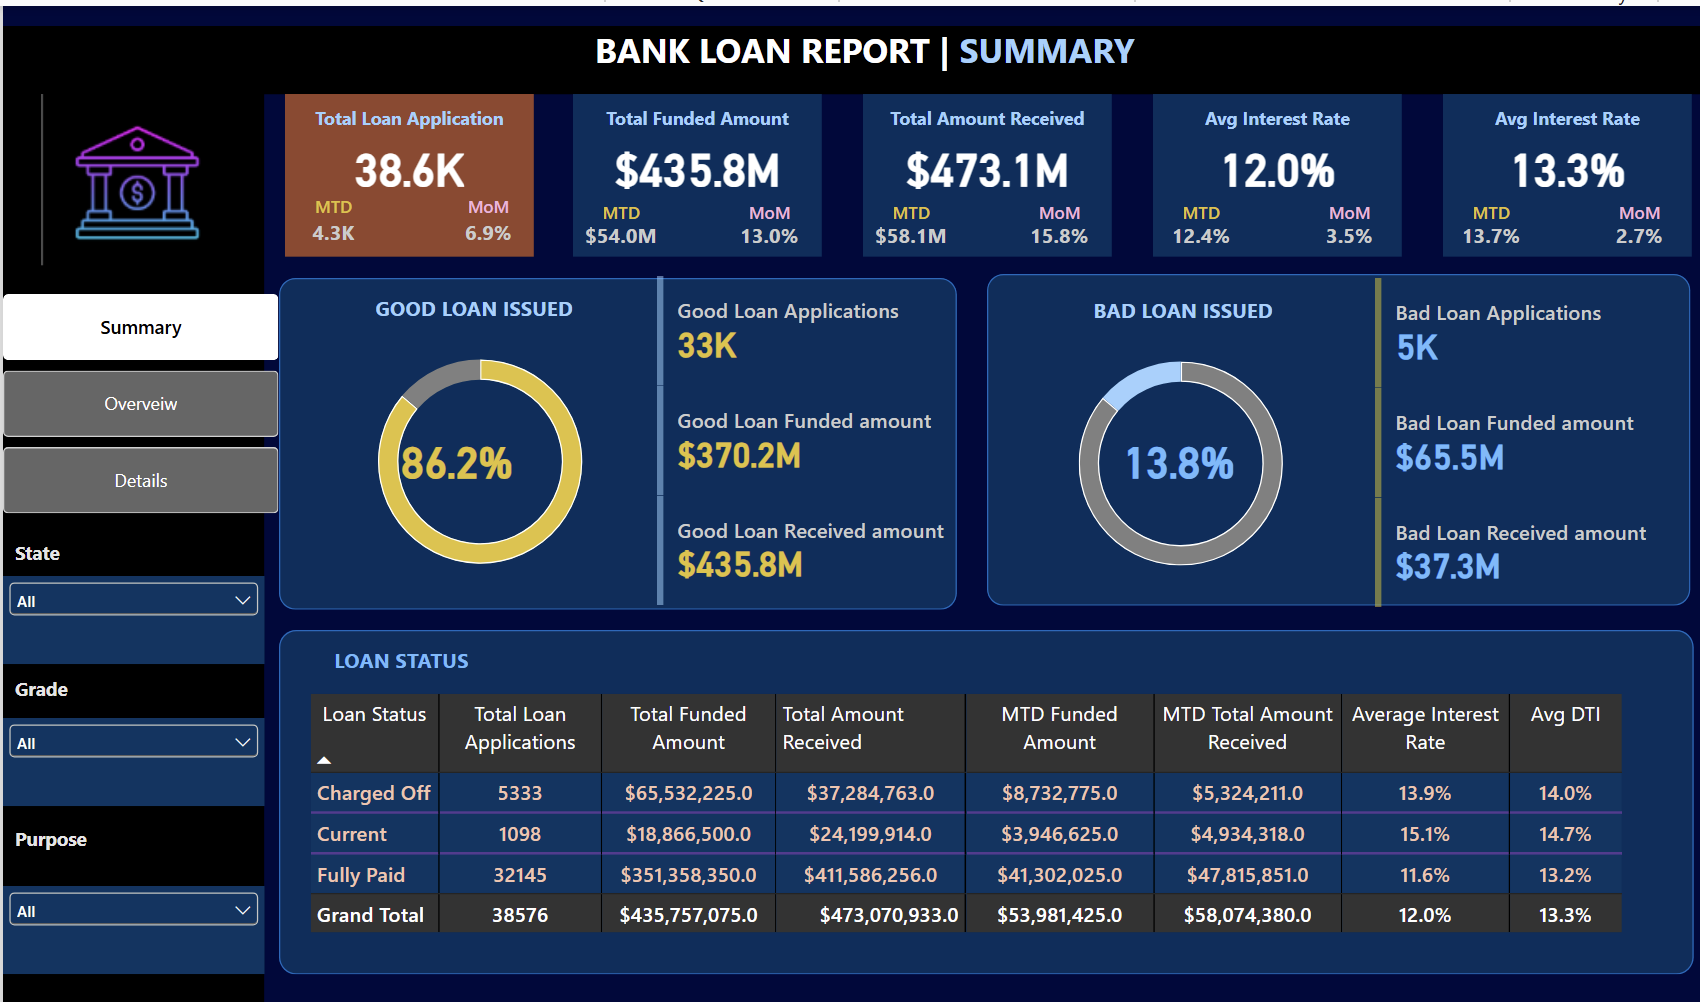

The page's visual inventory and layout, read from the dashboard file:
{"tool":"powerbi","page":{"name":"Summary","canvas":[1920,1080],"ordinal":0},"visuals":[{"type":"shape","box":[216.2,212.5,531.2,260],"z":0},{"type":"cardVisual","fields":{"Data":["bank_loan_data.Bad Loan Applications","bank_loan_data.Bad Loan Funded amount","bank_loan_data.Bad Loan Received amount"]},"box":[1075,212.5,251.2,260],"z":0,"group":"g7"},{"type":"shape","box":[0,15,1920,53.8],"z":1000},{"type":"donutChart","fields":{"Category":["bank_loan_data.Good v Bad Loan"],"Y":["bank_loan_data.Total Loan Applications"]},"box":[771.2,243.7,303.8,230],"z":1000,"group":"g7"},{"type":"shape","box":[0,43.8,205,1026.2],"z":2000},{"type":"textbox","box":[773.7,226.3,301.2,35],"z":2000,"group":"g7"},{"type":"textbox","box":[463.8,15,475,38.8],"z":3000},{"type":"textbox","box":[221.2,68.8,195,127.5],"z":3000,"group":"g1"},{"type":"textbox","box":[446.6,68.8,195,127.5],"z":3000,"group":"g2"},{"type":"textbox","box":[673.4,68.8,195,127.5],"z":3000,"group":"g3"},{"type":"textbox","box":[900.3,68.8,195,127.5],"z":3000,"group":"g4"},{"type":"textbox","box":[1127.2,68.8,195,127.5],"z":3000,"group":"g5"},{"type":"group","id":"g1","title":"Group 1","box":[221.2,68.8,195,127.5],"z":4000},{"type":"cardVisual","fields":{"Data":["bank_loan_data.Total Loan Applications"]},"box":[221.2,102.6,195,50],"z":4000,"group":"g1"},{"type":"cardVisual","fields":{"Data":["bank_loan_data.Total Funded Amount"]},"box":[446.6,102.6,195,50],"z":4000,"group":"g2"},{"type":"cardVisual","fields":{"Data":["bank_loan_data.Total Amount Received"]},"box":[673.4,102.6,195,50],"z":4000,"group":"g3"},{"type":"cardVisual","fields":{"Data":["bank_loan_data.Average Interest Rate"]},"box":[900.3,102.6,195,50],"z":4000,"group":"g4"},{"type":"cardVisual","fields":{"Data":["bank_loan_data.Avg DTI"]},"box":[1127.2,102.6,195,50],"z":4000,"group":"g5"},{"type":"group","id":"g2","title":"Group 1","box":[439.4,68.8,203.8,127.5],"z":5000},{"type":"textbox","box":[221.2,77.6,195,25],"z":5000,"group":"g1"},{"type":"textbox","box":[446.6,77.6,195,25],"z":5000,"group":"g2"},{"type":"textbox","box":[673.4,77.6,195,25],"z":5000,"group":"g3"},{"type":"textbox","box":[900.3,77.6,195,25],"z":5000,"group":"g4"},{"type":"textbox","box":[1127.2,77.6,195,25],"z":5000,"group":"g5"},{"type":"cardVisual","title":"MoM","fields":{"Data":["bank_loan_data.MOM Loan Application"]},"box":[345,147.6,71.2,40],"z":6000,"group":"g1"},{"type":"cardVisual","title":"MoM","fields":{"Data":["bank_loan_data.MOM Total funded amount"]},"box":[559.9,151.6,82.5,36.2],"z":6000,"group":"g2"},{"type":"cardVisual","title":"MoM","fields":{"Data":["bank_loan_data.MOM Total Amount Received"]},"box":[786.7,151.6,82.5,36.2],"z":6000,"group":"g3"},{"type":"cardVisual","title":"MoM","fields":{"Data":["bank_loan_data.MOM Avg Interest Rate"]},"box":[1013.6,151.6,82.5,36.2],"z":6000,"group":"g4"},{"type":"cardVisual","title":"MoM","fields":{"Data":["bank_loan_data.MOM Total Avg"]},"box":[1240.5,151.6,82.5,36.2],"z":6000,"group":"g5"},{"type":"textbox","box":[216.2,225,306.1,35],"z":6000,"group":"g6"},{"type":"cardVisual","fields":{"Data":["bank_loan_data.Good Loan %"]},"box":[292.5,333.8,125,47.5],"z":6000},{"type":"group","id":"g3","title":"Group 1","box":[666.2,68.8,203.8,127.5],"z":7000},{"type":"cardVisual","title":"MTD","fields":{"Data":["bank_loan_data.MTD Loan Applications"]},"box":[221.2,147.6,76.2,40],"z":7000,"group":"g1"},{"type":"cardVisual","title":"MTD","fields":{"Data":["bank_loan_data.MTD Funded Amount"]},"box":[439.4,151.6,91.2,36.2],"z":7000,"group":"g2"},{"type":"cardVisual","title":"MTD","fields":{"Data":["bank_loan_data.MTD Total Amount Received"]},"box":[666.2,151.6,91.2,36.2],"z":7000,"group":"g3"},{"type":"cardVisual","title":"MTD","fields":{"Data":["bank_loan_data.MTD Avg Int Rate"]},"box":[893.1,151.6,91.2,36.2],"z":7000,"group":"g4"},{"type":"cardVisual","title":"MTD","fields":{"Data":["bank_loan_data.MTD Avg DTI"]},"box":[1120,151.6,91.2,36.2],"z":7000,"group":"g5"},{"type":"group","id":"g4","title":"Group 1","box":[893.1,68.8,203.8,127.5],"z":8000},{"type":"group","id":"g5","title":"Group 1","box":[1120,68.8,203.8,127.5],"z":9000},{"type":"shape","box":[771.2,210,551.2,260],"z":10000},{"type":"donutChart","fields":{"Category":["bank_loan_data.Good v Bad Loan"],"Y":["bank_loan_data.Total Loan Applications"]},"box":[235.9,242.5,274.5,230.1],"z":10000,"group":"g6"},{"type":"cardVisual","fields":{"Data":["bank_loan_data.Bad Loan %"]},"box":[858.8,333.8,125,47.5],"z":11000},{"type":"shape","box":[216.2,488.8,1108.8,270],"z":12000},{"type":"group","id":"g6","title":"Group 2","box":[216.2,211.2,1110,580],"z":13000},{"type":"cardVisual","fields":{"Data":["bank_loan_data.Good Loan Applications","bank_loan_data.Good Loan Funded amount","bank_loan_data.Good Loan Received amount"]},"box":[511.7,211.2,264,260.1],"z":13000,"group":"g6"},{"type":"group","id":"g7","title":"Group 3","box":[771.2,212.5,555,261.2],"z":14000},{"type":"tableEx","fields":{"Values":["bank_loan_data.loan_status","bank_loan_data.Total Loan Applications","bank_loan_data.Total Funded Amount","bank_loan_data.Total Amount Received","bank_loan_data.MTD Funded Amount","bank_loan_data.MTD Total Amount Received","bank_loan_data.Average Interest Rate","bank_loan_data.Avg DTI"]},"box":[223.4,524.8,1102.8,266.4],"z":14001,"group":"g6"},{"type":"textbox","box":[221.2,501.2,182.5,23.8],"z":15000},{"type":"slicer","fields":{"Values":["bank_loan_data.address_state"]},"box":[0,446.2,205,68.8],"z":16000},{"type":"textbox","box":[8.8,418.8,83.8,27.5],"z":17000},{"type":"slicer","fields":{"Values":["bank_loan_data.grade"]},"box":[0,557.5,205,68.8],"z":18000},{"type":"textbox","box":[8.8,525,61.2,32.5],"z":19000},{"type":"slicer","fields":{"Values":["bank_loan_data.grade"]},"box":[0,690,205,68.8],"z":20000},{"type":"textbox","box":[8.8,642.5,83.8,30],"z":21000},{"type":"image","box":[21.8,69.1,160,134.5],"z":22000},{"type":"pageNavigator","box":[0,225.5,216.4,174.5],"z":23000}]}

Visuals, with their boxes on the page's 1920x1080 design canvas (x1, y1, x2, y2). These are canvas units, not pixel positions in the 1700x1002 screenshot, which may show the page scaled, cropped or inside an application window:
shape: [left=216, top=212, right=747, bottom=472]
cardVisual - bank_loan_data.Bad Loan Applications x bank_loan_data.Bad Loan Funded amount: [left=1075, top=212, right=1326, bottom=472]
shape: [left=0, top=15, right=1920, bottom=69]
donutChart - bank_loan_data.Good v Bad Loan x bank_loan_data.Total Loan Applications: [left=771, top=244, right=1075, bottom=474]
shape: [left=0, top=44, right=205, bottom=1070]
textbox: [left=774, top=226, right=1075, bottom=261]
textbox: [left=464, top=15, right=939, bottom=54]
textbox: [left=221, top=69, right=416, bottom=196]
textbox: [left=447, top=69, right=642, bottom=196]
textbox: [left=673, top=69, right=868, bottom=196]
textbox: [left=900, top=69, right=1095, bottom=196]
textbox: [left=1127, top=69, right=1322, bottom=196]
"Group 1" group: [left=221, top=69, right=416, bottom=196]
cardVisual - bank_loan_data.Total Loan Applications: [left=221, top=103, right=416, bottom=153]
cardVisual - bank_loan_data.Total Funded Amount: [left=447, top=103, right=642, bottom=153]
cardVisual - bank_loan_data.Total Amount Received: [left=673, top=103, right=868, bottom=153]
cardVisual - bank_loan_data.Average Interest Rate: [left=900, top=103, right=1095, bottom=153]
cardVisual - bank_loan_data.Avg DTI: [left=1127, top=103, right=1322, bottom=153]
"Group 1" group: [left=439, top=69, right=643, bottom=196]
textbox: [left=221, top=78, right=416, bottom=103]
textbox: [left=447, top=78, right=642, bottom=103]
textbox: [left=673, top=78, right=868, bottom=103]
textbox: [left=900, top=78, right=1095, bottom=103]
textbox: [left=1127, top=78, right=1322, bottom=103]
"MoM" cardVisual: [left=345, top=148, right=416, bottom=188]
"MoM" cardVisual: [left=560, top=152, right=642, bottom=188]
"MoM" cardVisual: [left=787, top=152, right=869, bottom=188]
"MoM" cardVisual: [left=1014, top=152, right=1096, bottom=188]
"MoM" cardVisual: [left=1240, top=152, right=1323, bottom=188]
textbox: [left=216, top=225, right=522, bottom=260]
cardVisual - bank_loan_data.Good Loan %: [left=292, top=334, right=418, bottom=381]
"Group 1" group: [left=666, top=69, right=870, bottom=196]
"MTD" cardVisual: [left=221, top=148, right=297, bottom=188]
"MTD" cardVisual: [left=439, top=152, right=531, bottom=188]
"MTD" cardVisual: [left=666, top=152, right=757, bottom=188]
"MTD" cardVisual: [left=893, top=152, right=984, bottom=188]
"MTD" cardVisual: [left=1120, top=152, right=1211, bottom=188]
"Group 1" group: [left=893, top=69, right=1097, bottom=196]
"Group 1" group: [left=1120, top=69, right=1324, bottom=196]
shape: [left=771, top=210, right=1322, bottom=470]
donutChart - bank_loan_data.Good v Bad Loan x bank_loan_data.Total Loan Applications: [left=236, top=242, right=510, bottom=473]
cardVisual - bank_loan_data.Bad Loan %: [left=859, top=334, right=984, bottom=381]
shape: [left=216, top=489, right=1325, bottom=759]
"Group 2" group: [left=216, top=211, right=1326, bottom=791]
cardVisual - bank_loan_data.Good Loan Applications x bank_loan_data.Good Loan Funded amount: [left=512, top=211, right=776, bottom=471]
"Group 3" group: [left=771, top=212, right=1326, bottom=474]
tableEx - bank_loan_data.loan_status x bank_loan_data.Total Loan Applications: [left=223, top=525, right=1326, bottom=791]
textbox: [left=221, top=501, right=404, bottom=525]
slicer - bank_loan_data.address_state: [left=0, top=446, right=205, bottom=515]
textbox: [left=9, top=419, right=93, bottom=446]
slicer - bank_loan_data.grade: [left=0, top=558, right=205, bottom=626]
textbox: [left=9, top=525, right=70, bottom=558]
slicer - bank_loan_data.grade: [left=0, top=690, right=205, bottom=759]
textbox: [left=9, top=642, right=93, bottom=672]
image: [left=22, top=69, right=182, bottom=204]
pageNavigator: [left=0, top=226, right=216, bottom=400]
